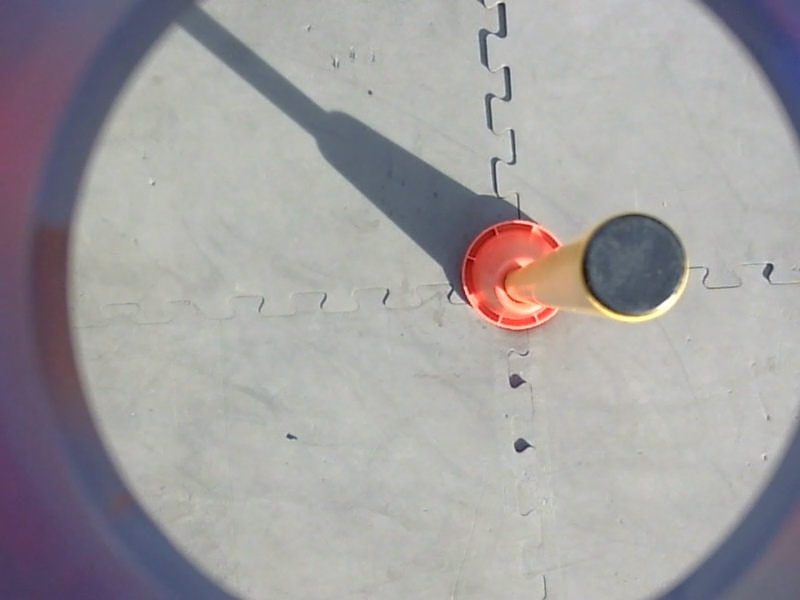tip: (577, 209, 694, 327)
